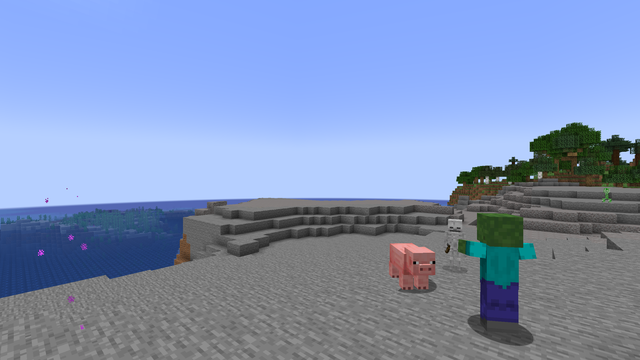cochons: (384, 241, 432, 292)
creepers: (602, 187, 610, 201)
squelettes: (445, 218, 464, 272)
zombies: (476, 214, 521, 343)
